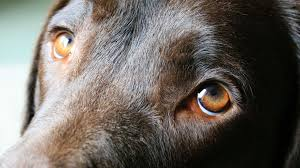dog: (5, 1, 300, 168)
